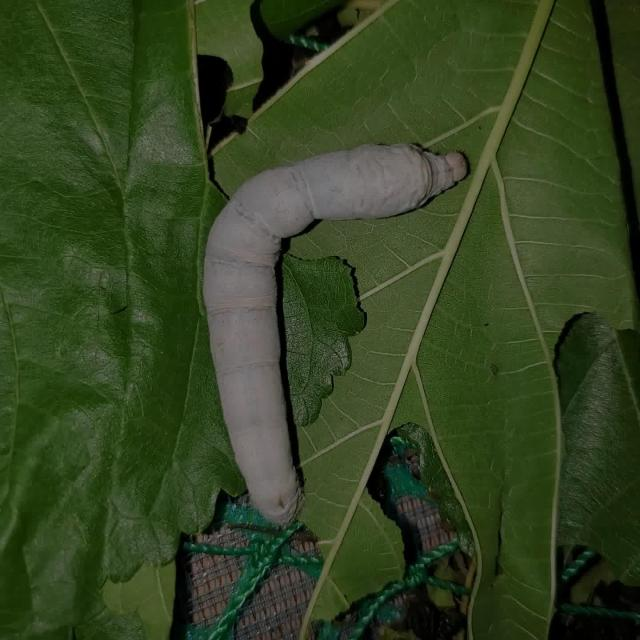Healthy: (186, 118, 471, 534)
